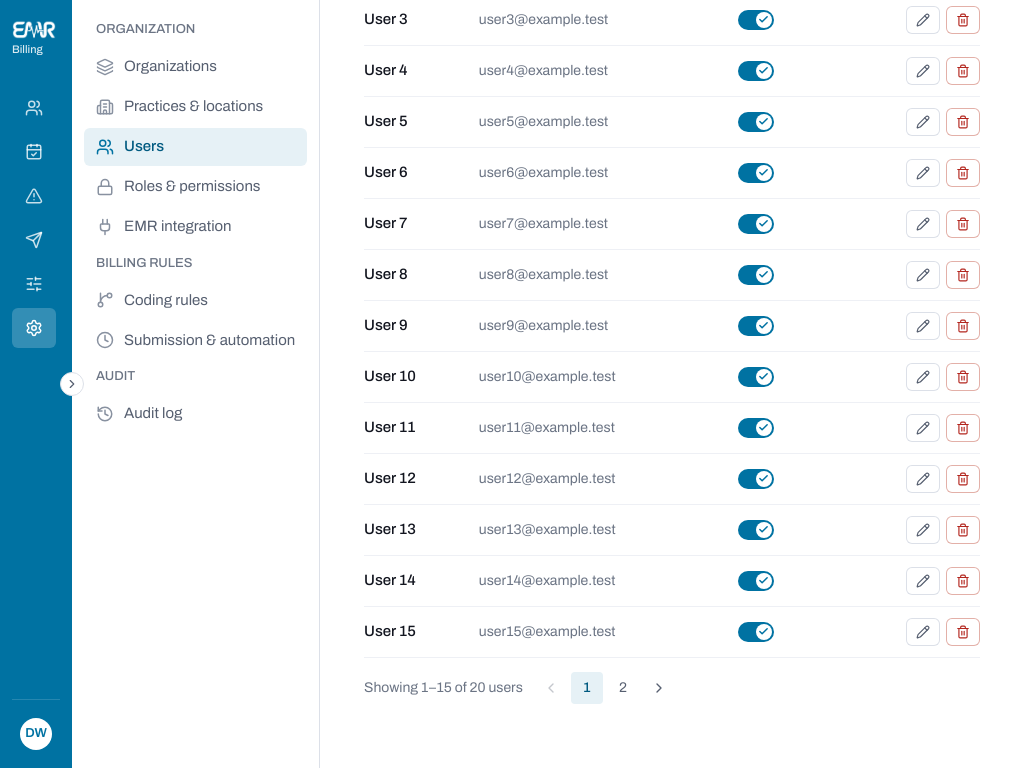
Test: Admin → Users › pages as the server does, 15 at a time
The image size is (1024, 768).
(page scrolled)
expect the text "Showing 1–15 of 20 users" is shown: met, box left=364, top=677, right=523, bottom=698
Click the button named "next". click: (659, 688)
box: left=643, top=672, right=675, bottom=704
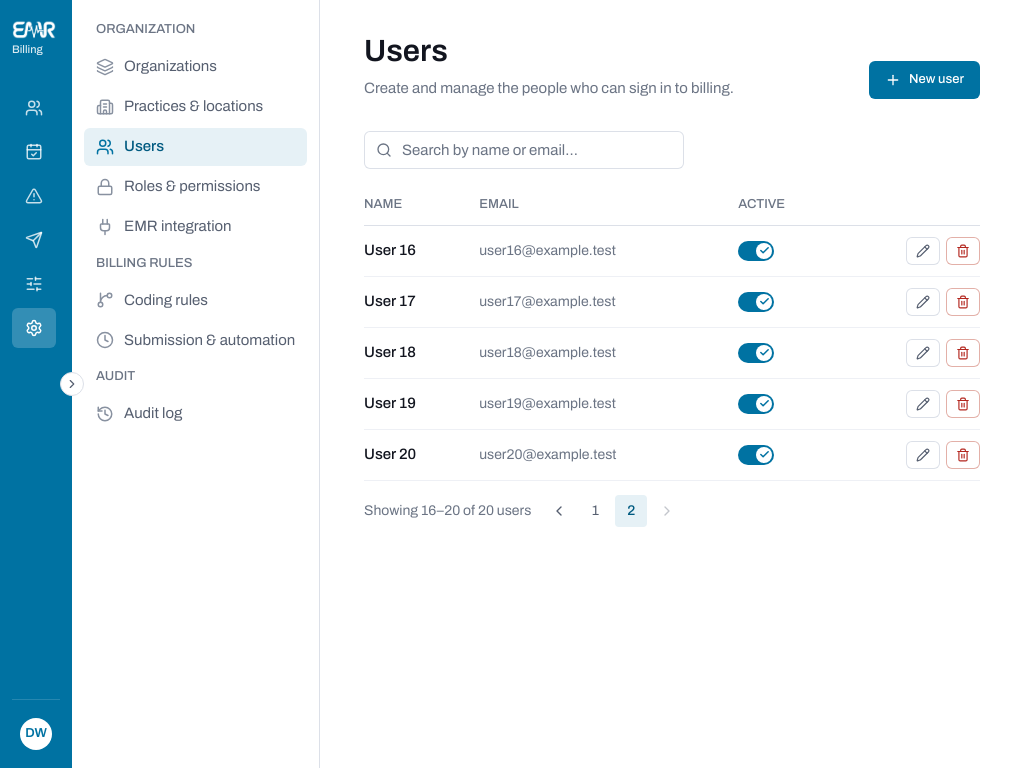
expect the text "Showing 16–20 of 20 users" is shown: met, box left=364, top=500, right=531, bottom=521
